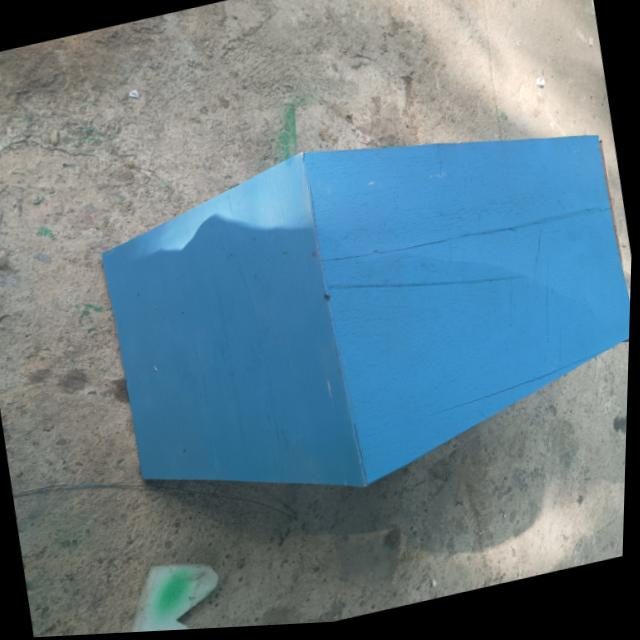blue_box: (61, 75, 638, 538)
